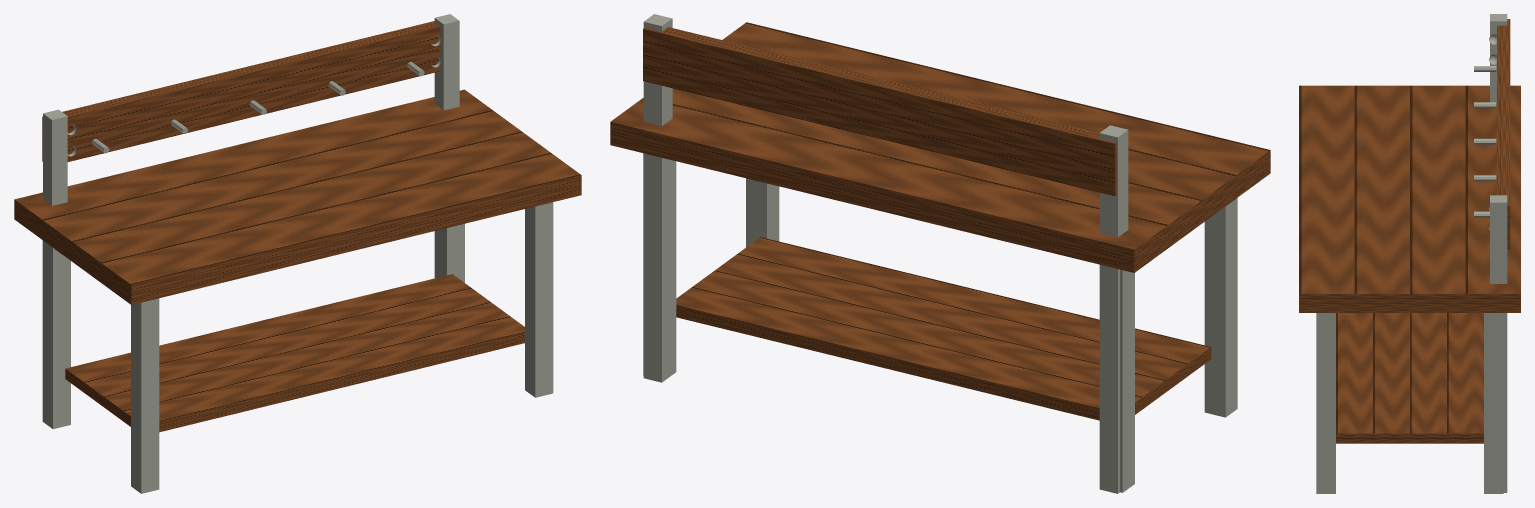
The model's file is reclamation-yard-heavy-repair-workbench__229.glb.
3 views of the same model, side by side, from view 1: azimuth 30°, elevation 25°; view 2: azimuth 150°, elevation 25°; view 3: azimuth 270°, elevation 25° (orthographic). The views are drawn at different scales.
Parts seen in each view (by area): view 1: wood, metal; view 2: wood, metal; view 3: wood, metal.
Boxes of the visible parts, x1=… form: wood: x1=14, y1=21, x2=581, y2=432; metal: x1=42, y1=14, x2=553, y2=493; wood: x1=610, y1=22, x2=1270, y2=420; metal: x1=643, y1=14, x2=1237, y2=493; wood: x1=1299, y1=19, x2=1520, y2=443; metal: x1=1316, y1=14, x2=1507, y2=493.
Bounding box in the file's own units: 2 × 1.3 × 0.9.
2 materials, 1 textured.
